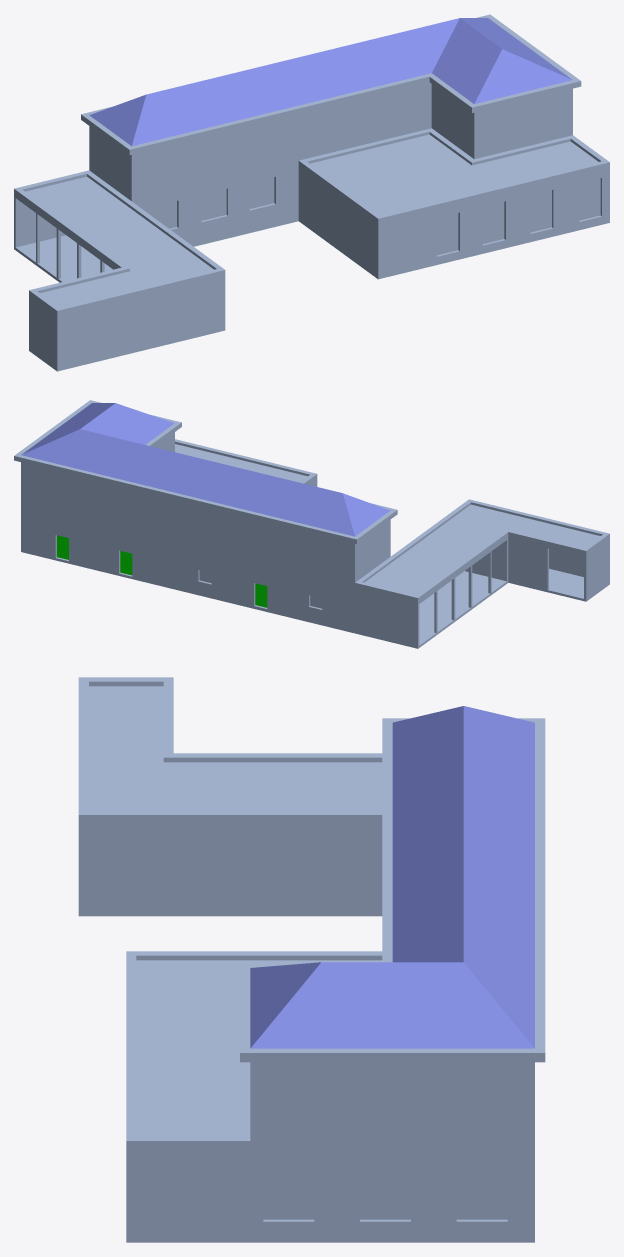
File: Assembly_Point.glb
3 views of the same model, one above another, from view 1: azimuth 30°, elevation 25°; view 2: azimuth 150°, elevation 25°; view 3: azimuth 270°, elevation 25° (orthographic). The views are drawn at different scales.
Visible parts, largest first — view 1: Floor1; view 2: Floor1; view 3: Floor1.
Part boxes in pixels (left/top/right/bottom): Floor1: left=14, top=14, right=609, bottom=371; Floor1: left=14, top=400, right=609, bottom=648; Floor1: left=78, top=677, right=545, bottom=1242.
Bounding box in the file's own units: 43.49 × 10.4 × 18.32.
